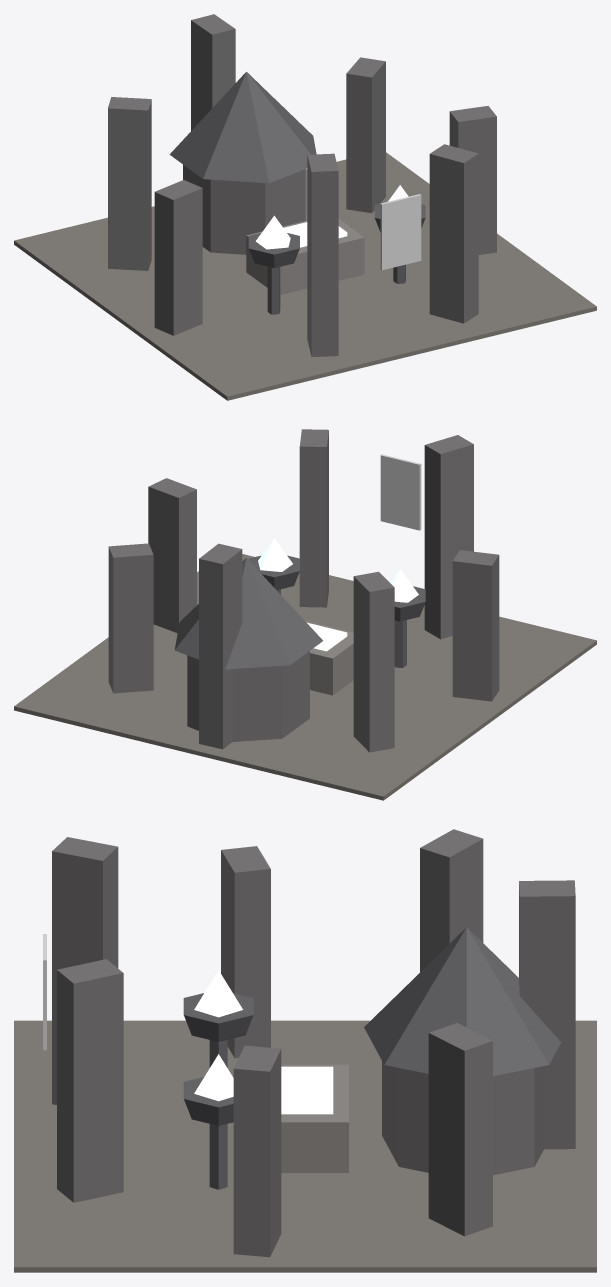
The picture shows the model from 3 angles, top to bottom: view 1: azimuth 30°, elevation 25°; view 2: azimuth 150°, elevation 25°; view 3: azimuth 270°, elevation 25°; orthographic projection. The views are drawn at different scales.
Parts seen in each view (by area): view 1: body; view 2: body; view 3: body.
Part boxes in pixels (left/top/right/bottom): body: left=14, top=14, right=596, bottom=400; body: left=14, top=429, right=596, bottom=800; body: left=14, top=829, right=596, bottom=1272.
Bounding box in the file's own units: 9.4 × 4.6 × 9.4.
